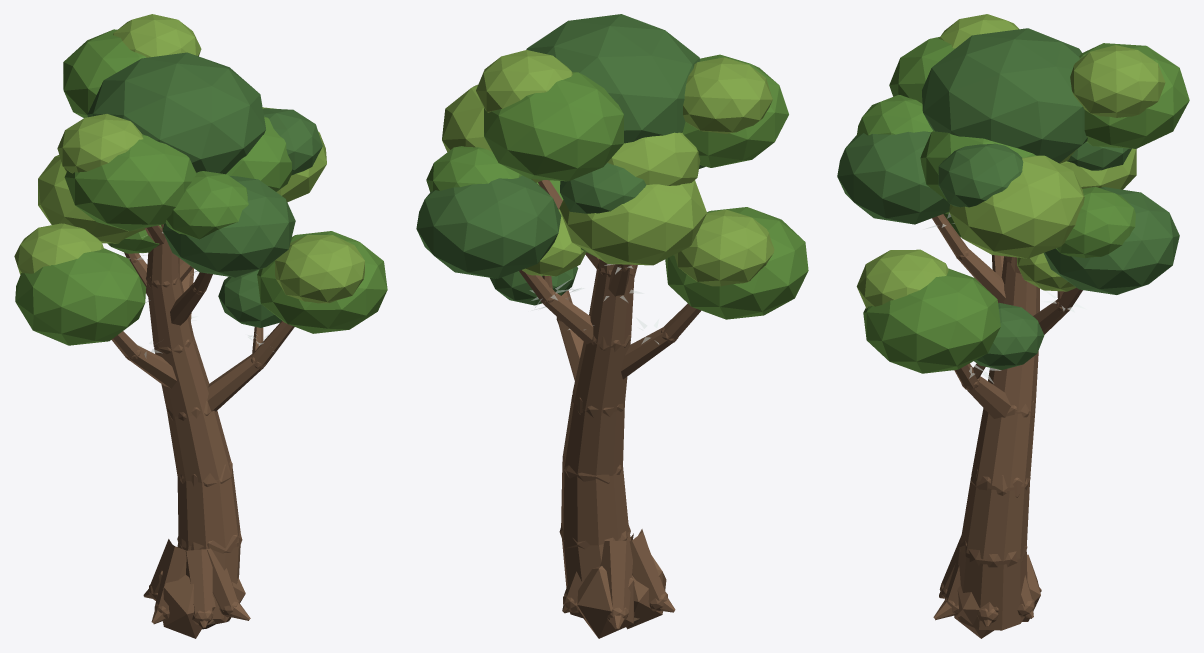
File: tree_07_over_taget.glb
The picture shows the model from 3 angles, left to right: view 1: azimuth 30°, elevation 25°; view 2: azimuth 150°, elevation 25°; view 3: azimuth 270°, elevation 25°; orthographic projection. The views are drawn at different scales.
Visible parts, largest first — view 1: OR_Tree_leafA, OR_Tree_bark, OR_Tree_leafC, OR_Tree_leafB; view 2: OR_Tree_leafB, OR_Tree_bark, OR_Tree_leafC, OR_Tree_leafA; view 3: OR_Tree_leafC, OR_Tree_leafA, OR_Tree_bark, OR_Tree_leafB.
Part boxes in pixels (box(x1,y1,x2,y2)): OR_Tree_leafA: box(15, 29, 387, 345); OR_Tree_bark: box(111, 224, 294, 638); OR_Tree_leafC: box(87, 52, 322, 327); OR_Tree_leafB: box(14, 14, 364, 303); OR_Tree_leafB: box(442, 50, 774, 286); OR_Tree_bark: box(519, 180, 701, 638); OR_Tree_leafC: box(416, 14, 705, 305); OR_Tree_leafA: box(426, 54, 808, 319); OR_Tree_leafC: box(837, 28, 1179, 369); OR_Tree_leafA: box(856, 37, 1189, 373); OR_Tree_bark: box(932, 214, 1082, 638); OR_Tree_leafB: box(856, 14, 1165, 308).
Bounding box in the file's own units: 14.26 × 23.28 × 12.77.
